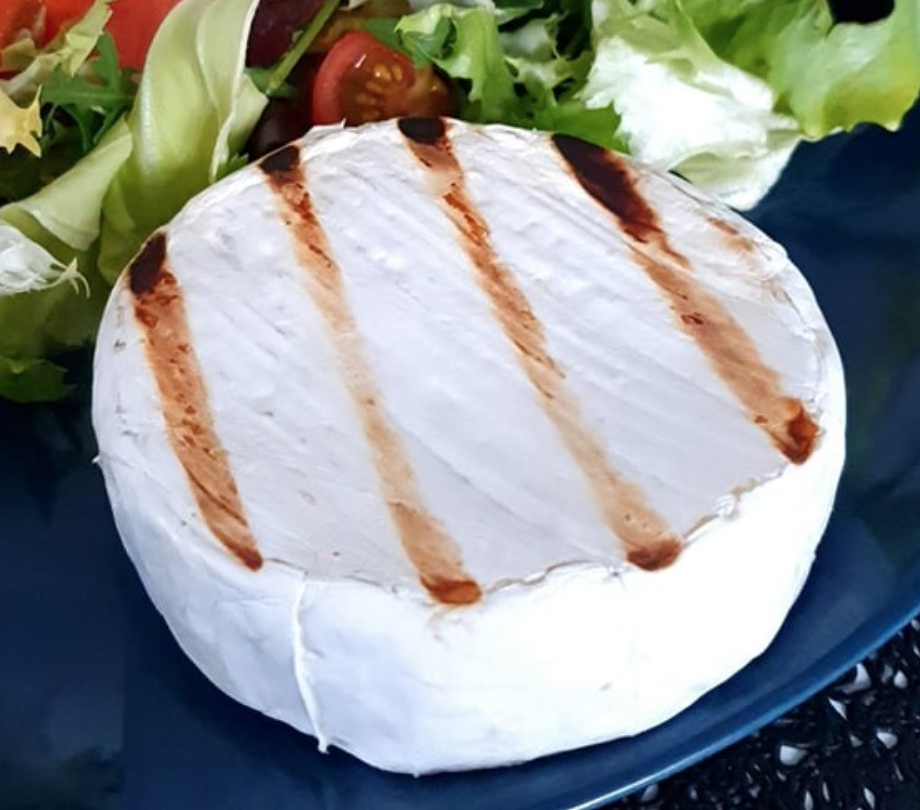camembert: (88, 116, 847, 778)
